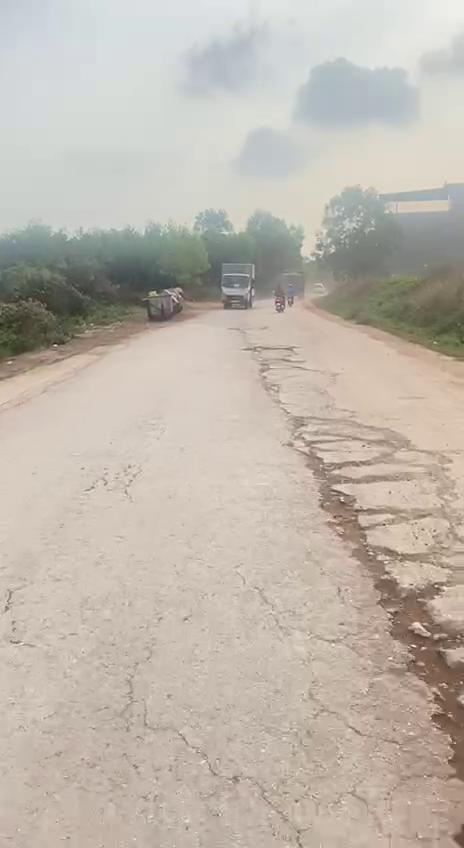pothole: (360, 534, 464, 782), (288, 418, 457, 564)
